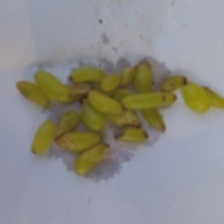grapes: (12, 13, 177, 185)
